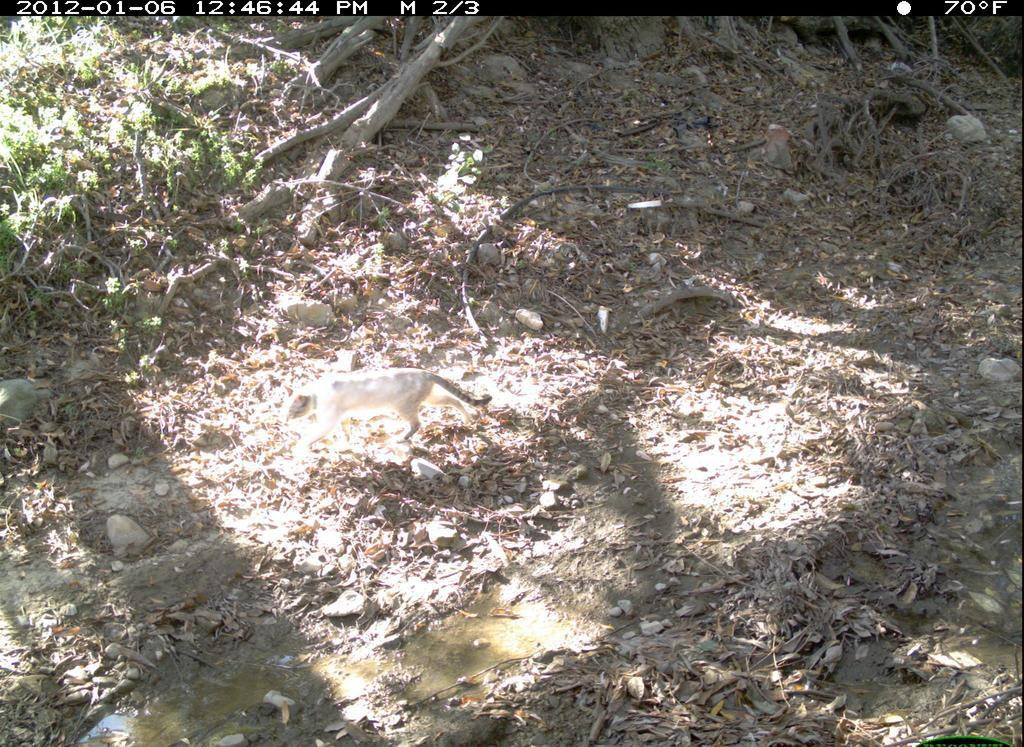cat: (272, 353, 520, 479)
